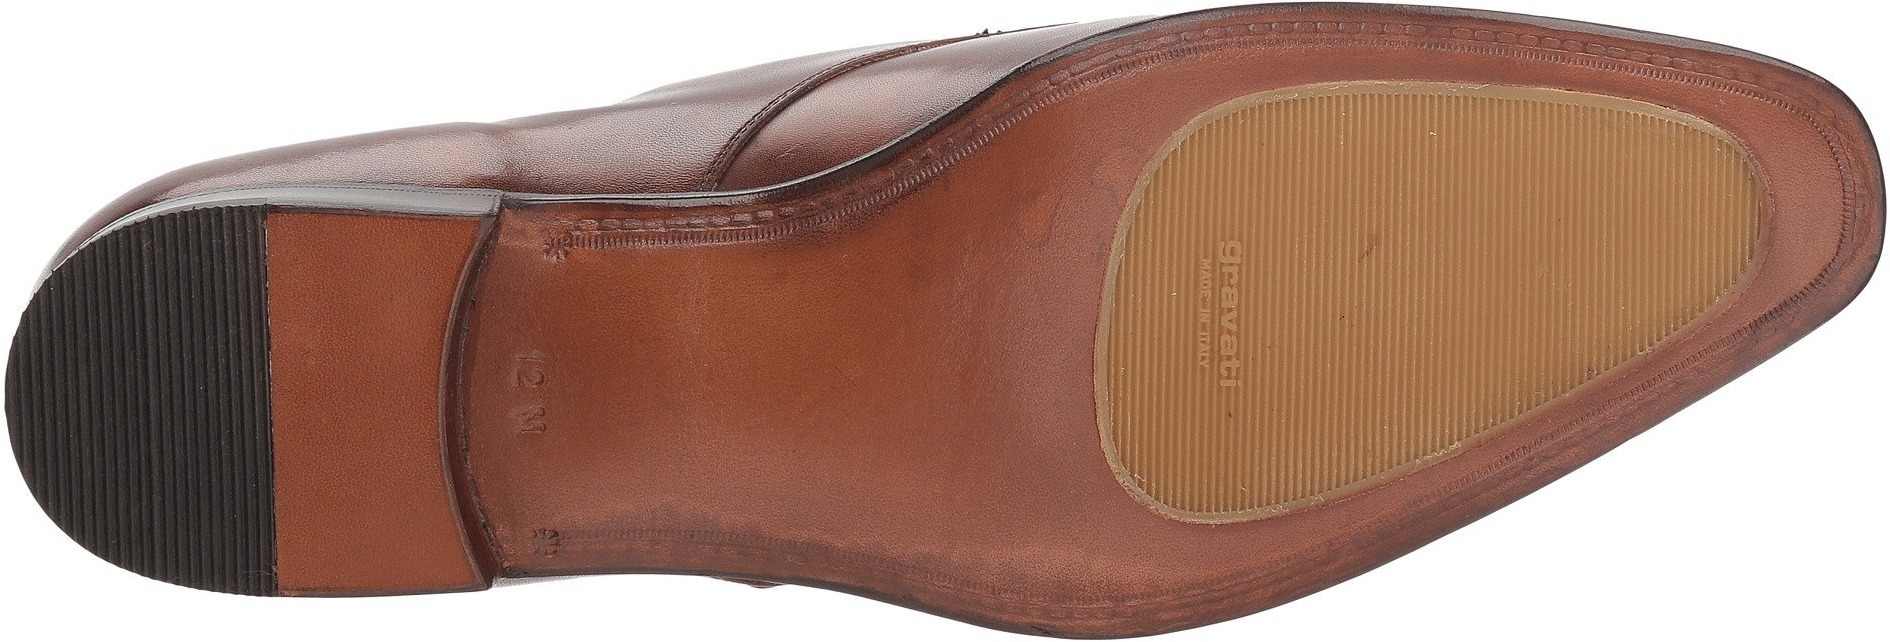line: (1284, 105, 1552, 391), (41, 302, 259, 517), (1556, 132, 1722, 293), (1144, 236, 1281, 379), (1141, 383, 1258, 500)
other: (796, 249, 1084, 524), (276, 385, 450, 538), (276, 224, 436, 381)
text: (1144, 236, 1281, 379)
